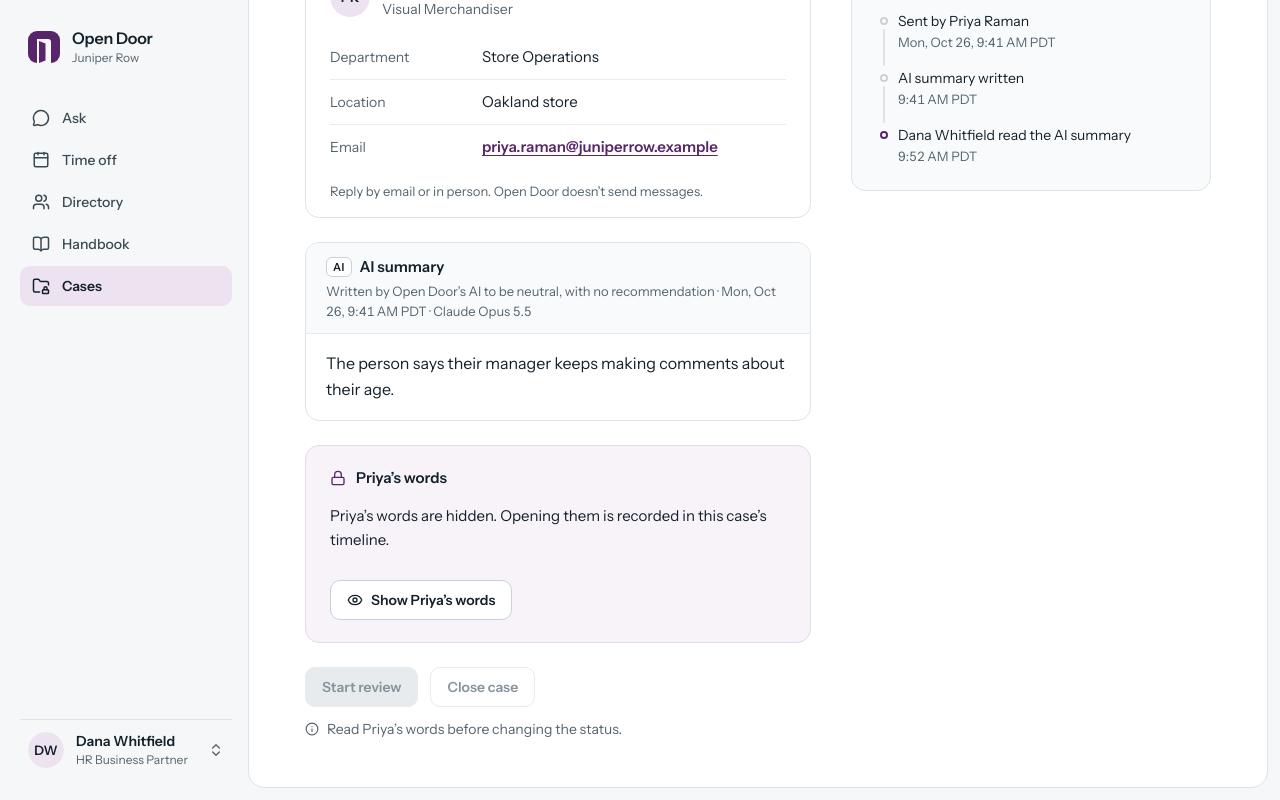
Test case: the words › drops the words on Hide, and each new reveal is one more read
(page scrolled)
Click the button "Show Priya’s words" at x=421, y=600, box [330, 580, 512, 620]
(page scrolled)
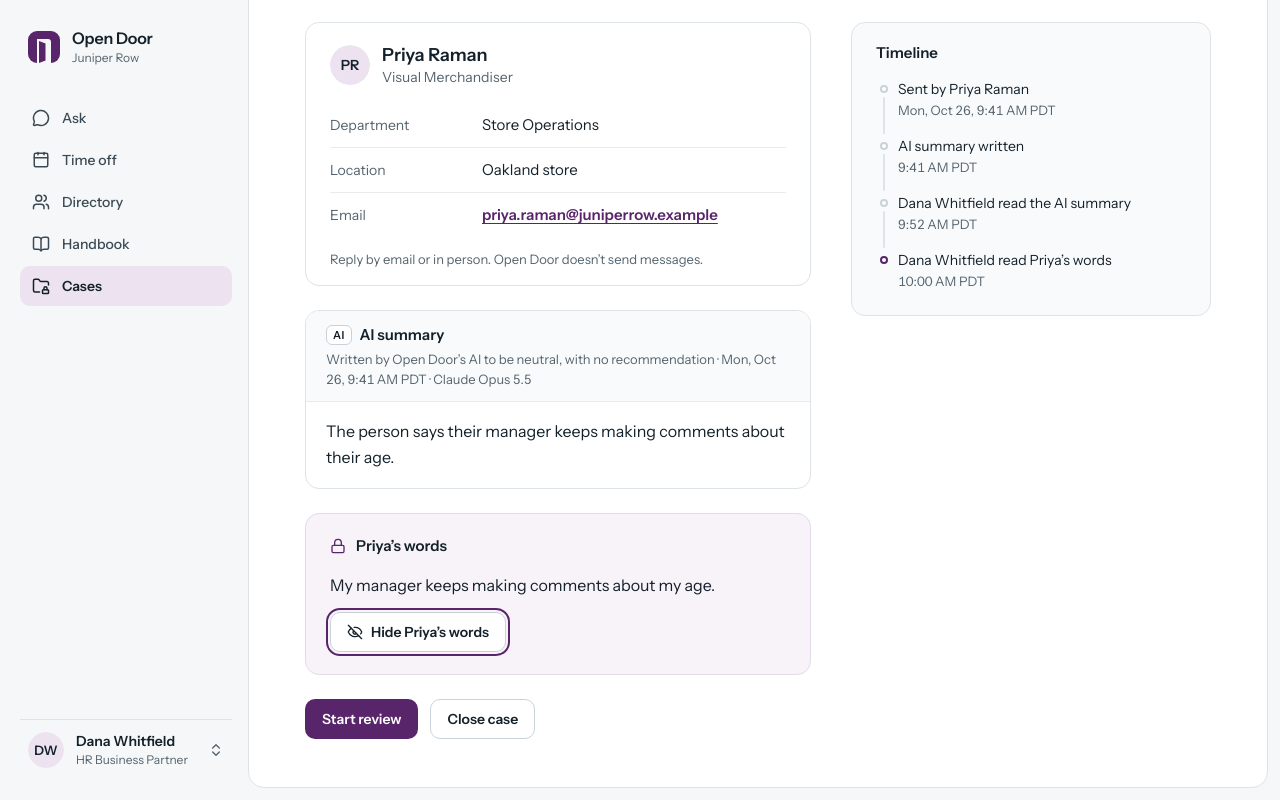
Expected: the text "My manager keeps making comments about my age." is shown, [330, 575, 715, 595]
Click the button "Hide Priya’s words" at x=418, y=632, box [330, 612, 506, 652]
(page scrolled)
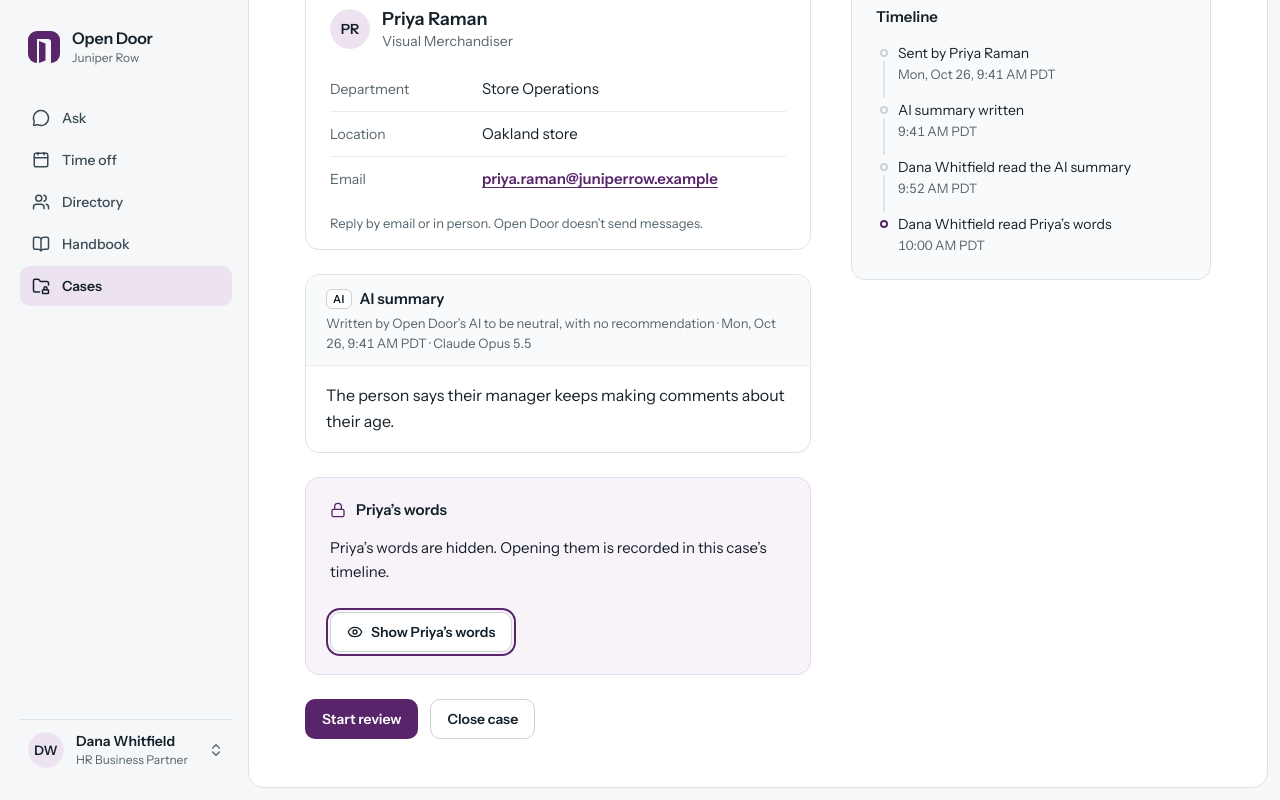
Expected: the text "My manager keeps making comments about my age." is gone
Click the button "Show Priya’s words" at x=421, y=632, box [330, 612, 512, 652]
(page scrolled)
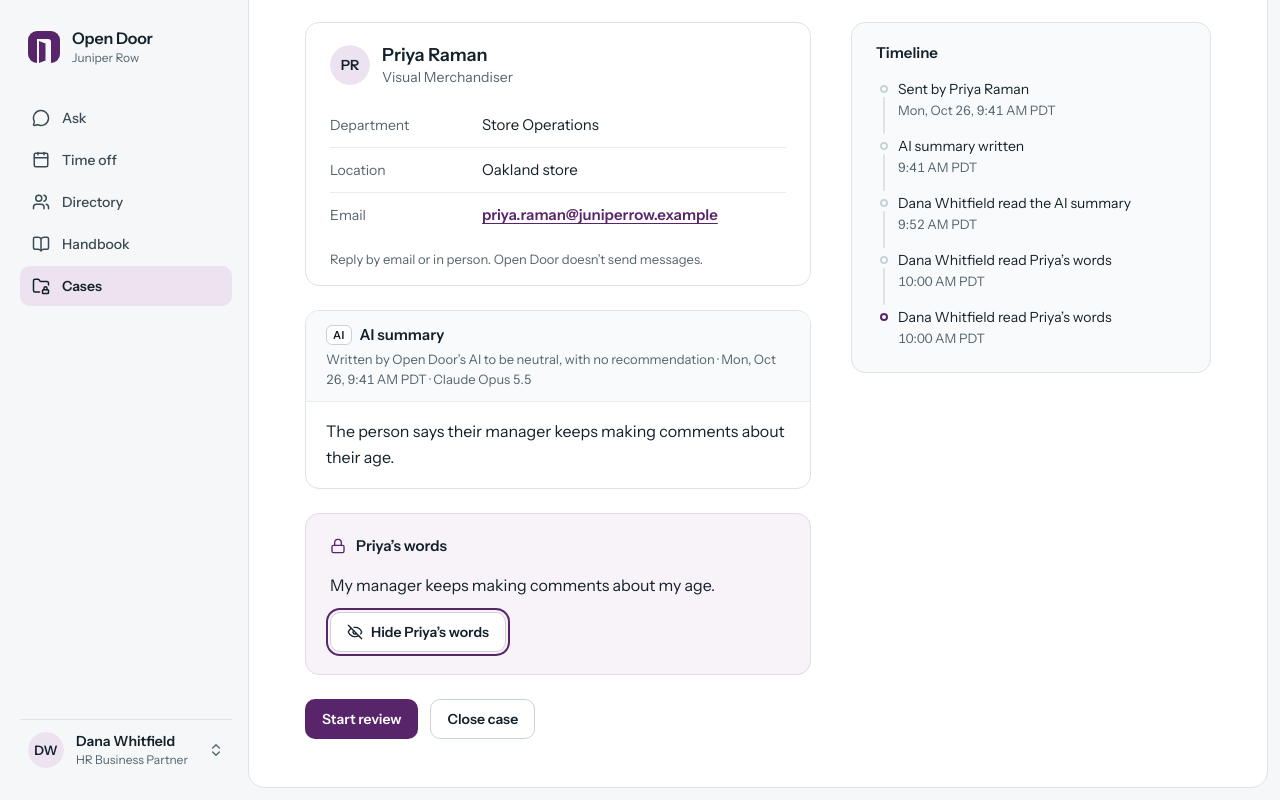
Expected: the text "My manager keeps making comments about my age." is shown, [330, 575, 715, 595]
